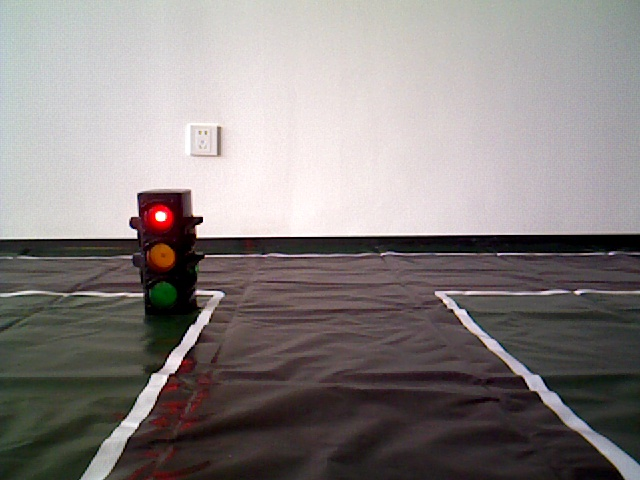red: (138, 193, 191, 314)
